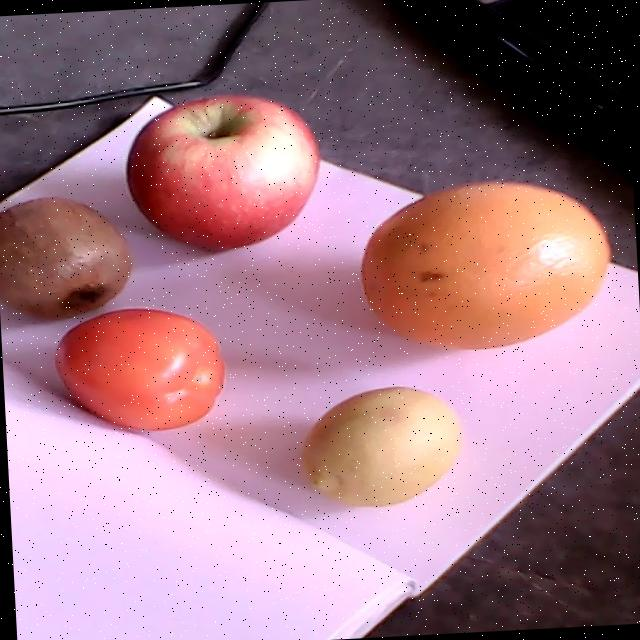apple: (126, 97, 319, 252)
kiwi: (0, 196, 131, 322)
lemon: (305, 387, 461, 507)
orange: (359, 181, 610, 349)
tomato: (54, 309, 225, 430)
